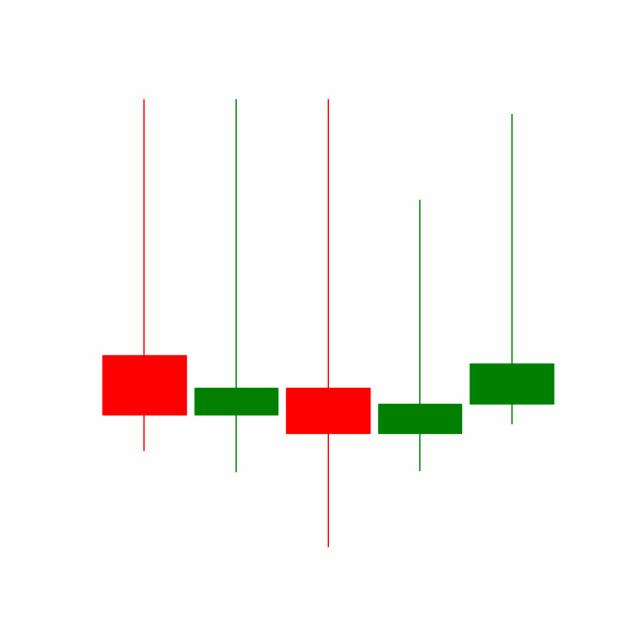Gravestone Doji: (373, 196, 467, 475)
